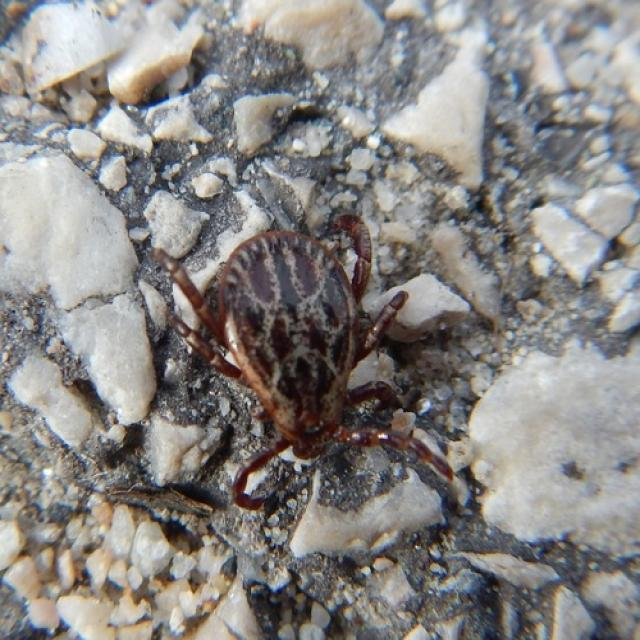Dermacentor Reticulatus-M: (155, 215, 454, 510)
